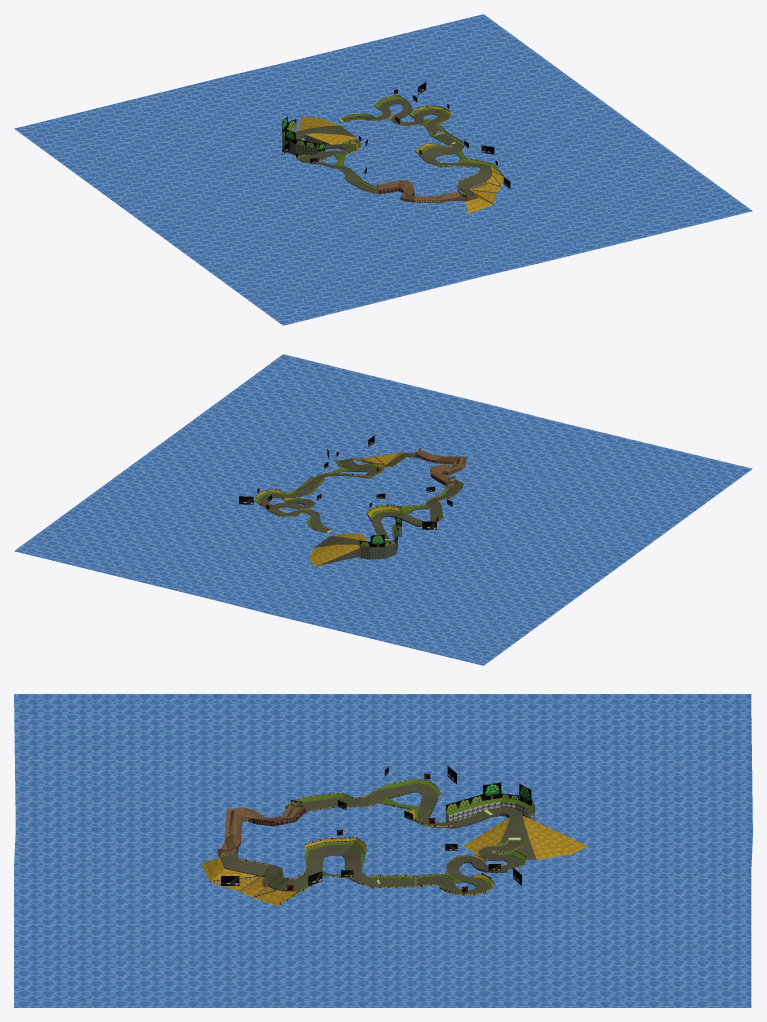
3 renders of one model, top to bottom at view 1: azimuth 30°, elevation 25°; view 2: azimuth 150°, elevation 25°; view 3: azimuth 270°, elevation 25°, orthographic. The views are drawn at different scales.
Visible parts, largest first — view 1: course-SKP--water2, course-SKP--pisotierra, course-SKP--arena, course-SKP--pasto, course-SKP--bardabo, course-SKP--techo, course-SKP--paredbo; view 2: course-SKP--water2, course-SKP--pisotierra, course-SKP--arena, course-SKP--paredbo, course-SKP--bardabo, course-SKP--pasto, course-SKP--techo, course-SKP--aguila; view 3: course-SKP--water2, course-SKP--pisotierra, course-SKP--arena, course-SKP--pasto, course-SKP--bardabo, course-SKP--techo, course-SKP--aguila, course-SKP--paredbo, course-SKP--zcascada, course-SKP--arbol.
Part boxes in pixels (<box>): course-SKP--water2: <box>14,14,752,325</box>; course-SKP--pisotierra: <box>295,99,491,200</box>; course-SKP--arena: <box>299,106,503,213</box>; course-SKP--pasto: <box>283,95,502,194</box>; course-SKP--bardabo: <box>296,94,504,194</box>; course-SKP--techo: <box>376,143,466,202</box>; course-SKP--paredbo: <box>282,103,492,201</box>; course-SKP--water2: <box>14,354,752,665</box>; course-SKP--pisotierra: <box>259,453,460,547</box>; course-SKP--arena: <box>255,452,402,566</box>; course-SKP--paredbo: <box>272,464,450,566</box>; course-SKP--bardabo: <box>255,456,463,532</box>; course-SKP--pasto: <box>256,460,463,539</box>; course-SKP--techo: <box>313,448,466,487</box>; course-SKP--aguila: <box>239,435,452,529</box>; course-SKP--water2: <box>14,694,752,1007</box>; course-SKP--pisotierra: <box>220,783,536,893</box>; course-SKP--arena: <box>201,809,588,906</box>; course-SKP--pasto: <box>288,780,534,898</box>; course-SKP--bardabo: <box>238,778,527,905</box>; course-SKP--techo: <box>217,805,379,883</box>; course-SKP--aguila: <box>221,766,521,885</box>; course-SKP--paredbo: <box>220,791,510,891</box>; course-SKP--zcascada: <box>446,802,534,828</box>; course-SKP--arbol: <box>483,782,531,805</box>.
Bounding box in the file's own units: 183763 × 10491 × 182870.
Materials: 22 (21 with a texture image).
